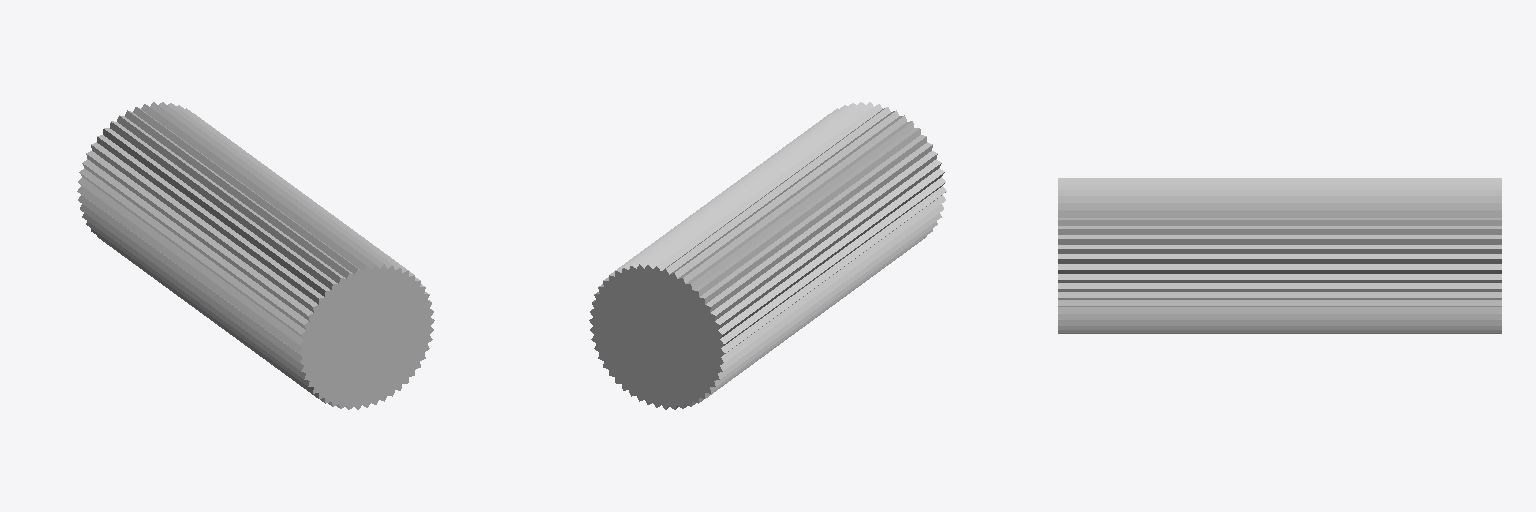
File: gear3d_shaft_small.obj
3 renders of one model, left to right at view 1: azimuth 30°, elevation 25°; view 2: azimuth 150°, elevation 25°; view 3: azimuth 270°, elevation 25°, orthographic.
Parts seen in each view (by area): view 1: Cube.002; view 2: Cube.002; view 3: Cube.002.
Part boxes in pixels (x1,y1,x2,y2): Cube.002: (77,102,434,409); Cube.002: (589,102,946,409); Cube.002: (1058,178,1501,333).
Size of the model in its own units: 0.3556 by 0.3556 by 1.01.